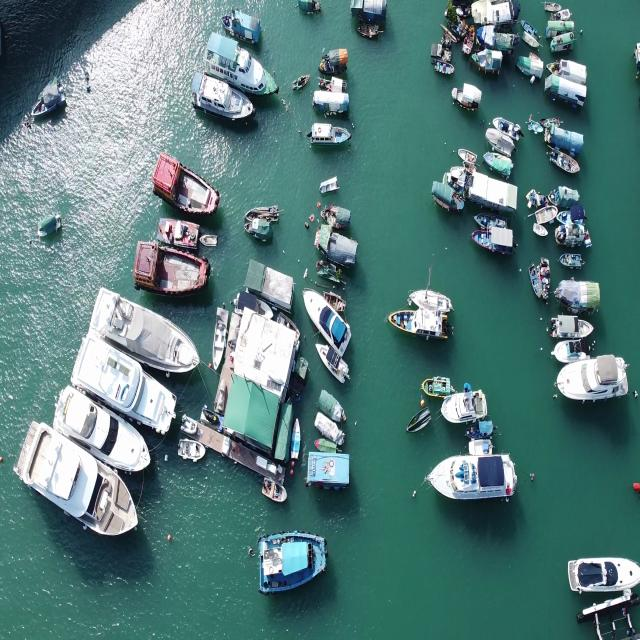ship: (19, 416, 139, 549), (76, 320, 176, 432), (90, 282, 196, 382), (58, 376, 154, 462), (250, 526, 335, 592), (132, 233, 208, 299), (160, 144, 222, 216), (206, 30, 279, 91), (426, 461, 524, 500), (194, 62, 254, 125), (556, 352, 630, 402), (573, 544, 636, 594), (470, 225, 516, 259), (551, 307, 593, 336), (26, 84, 68, 112), (307, 120, 352, 145), (491, 111, 522, 141), (263, 473, 291, 506), (552, 336, 593, 358), (174, 438, 207, 464), (244, 218, 274, 245), (321, 397, 346, 427), (33, 214, 64, 235), (528, 257, 543, 299), (405, 408, 431, 432), (464, 437, 499, 454), (420, 375, 453, 393), (289, 419, 300, 461), (244, 206, 282, 218), (318, 175, 344, 192), (456, 144, 476, 166), (521, 30, 541, 50), (529, 224, 551, 242), (198, 230, 218, 247), (288, 74, 312, 86)
